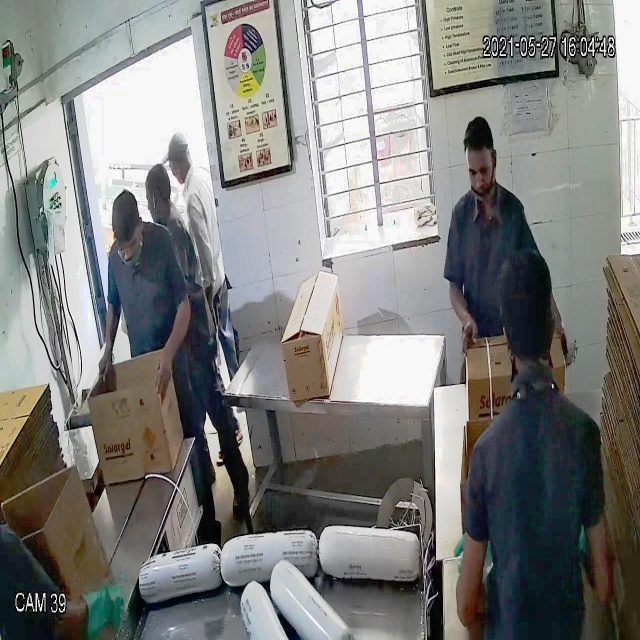Sin_gafas: (464, 153, 496, 189), (112, 231, 145, 265)
